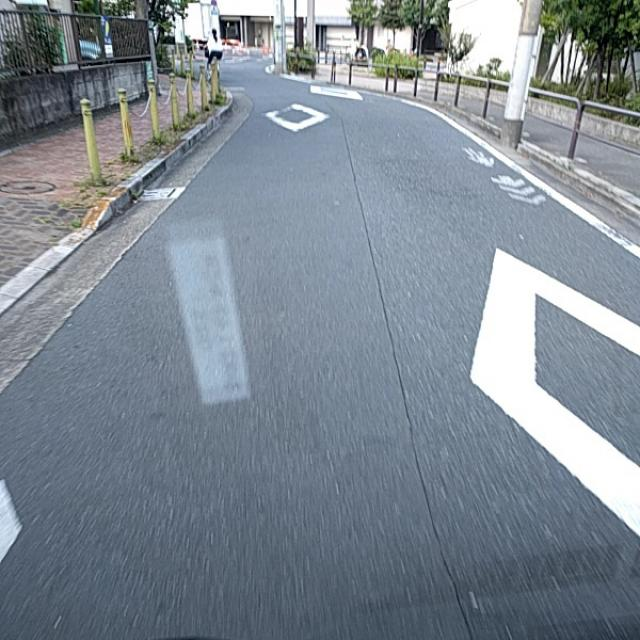pothole: (361, 336, 435, 454)
